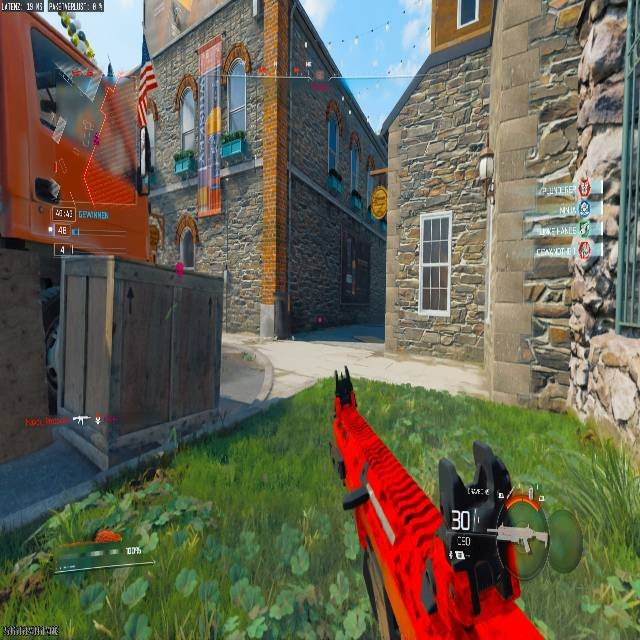head: (568, 237, 593, 267)
